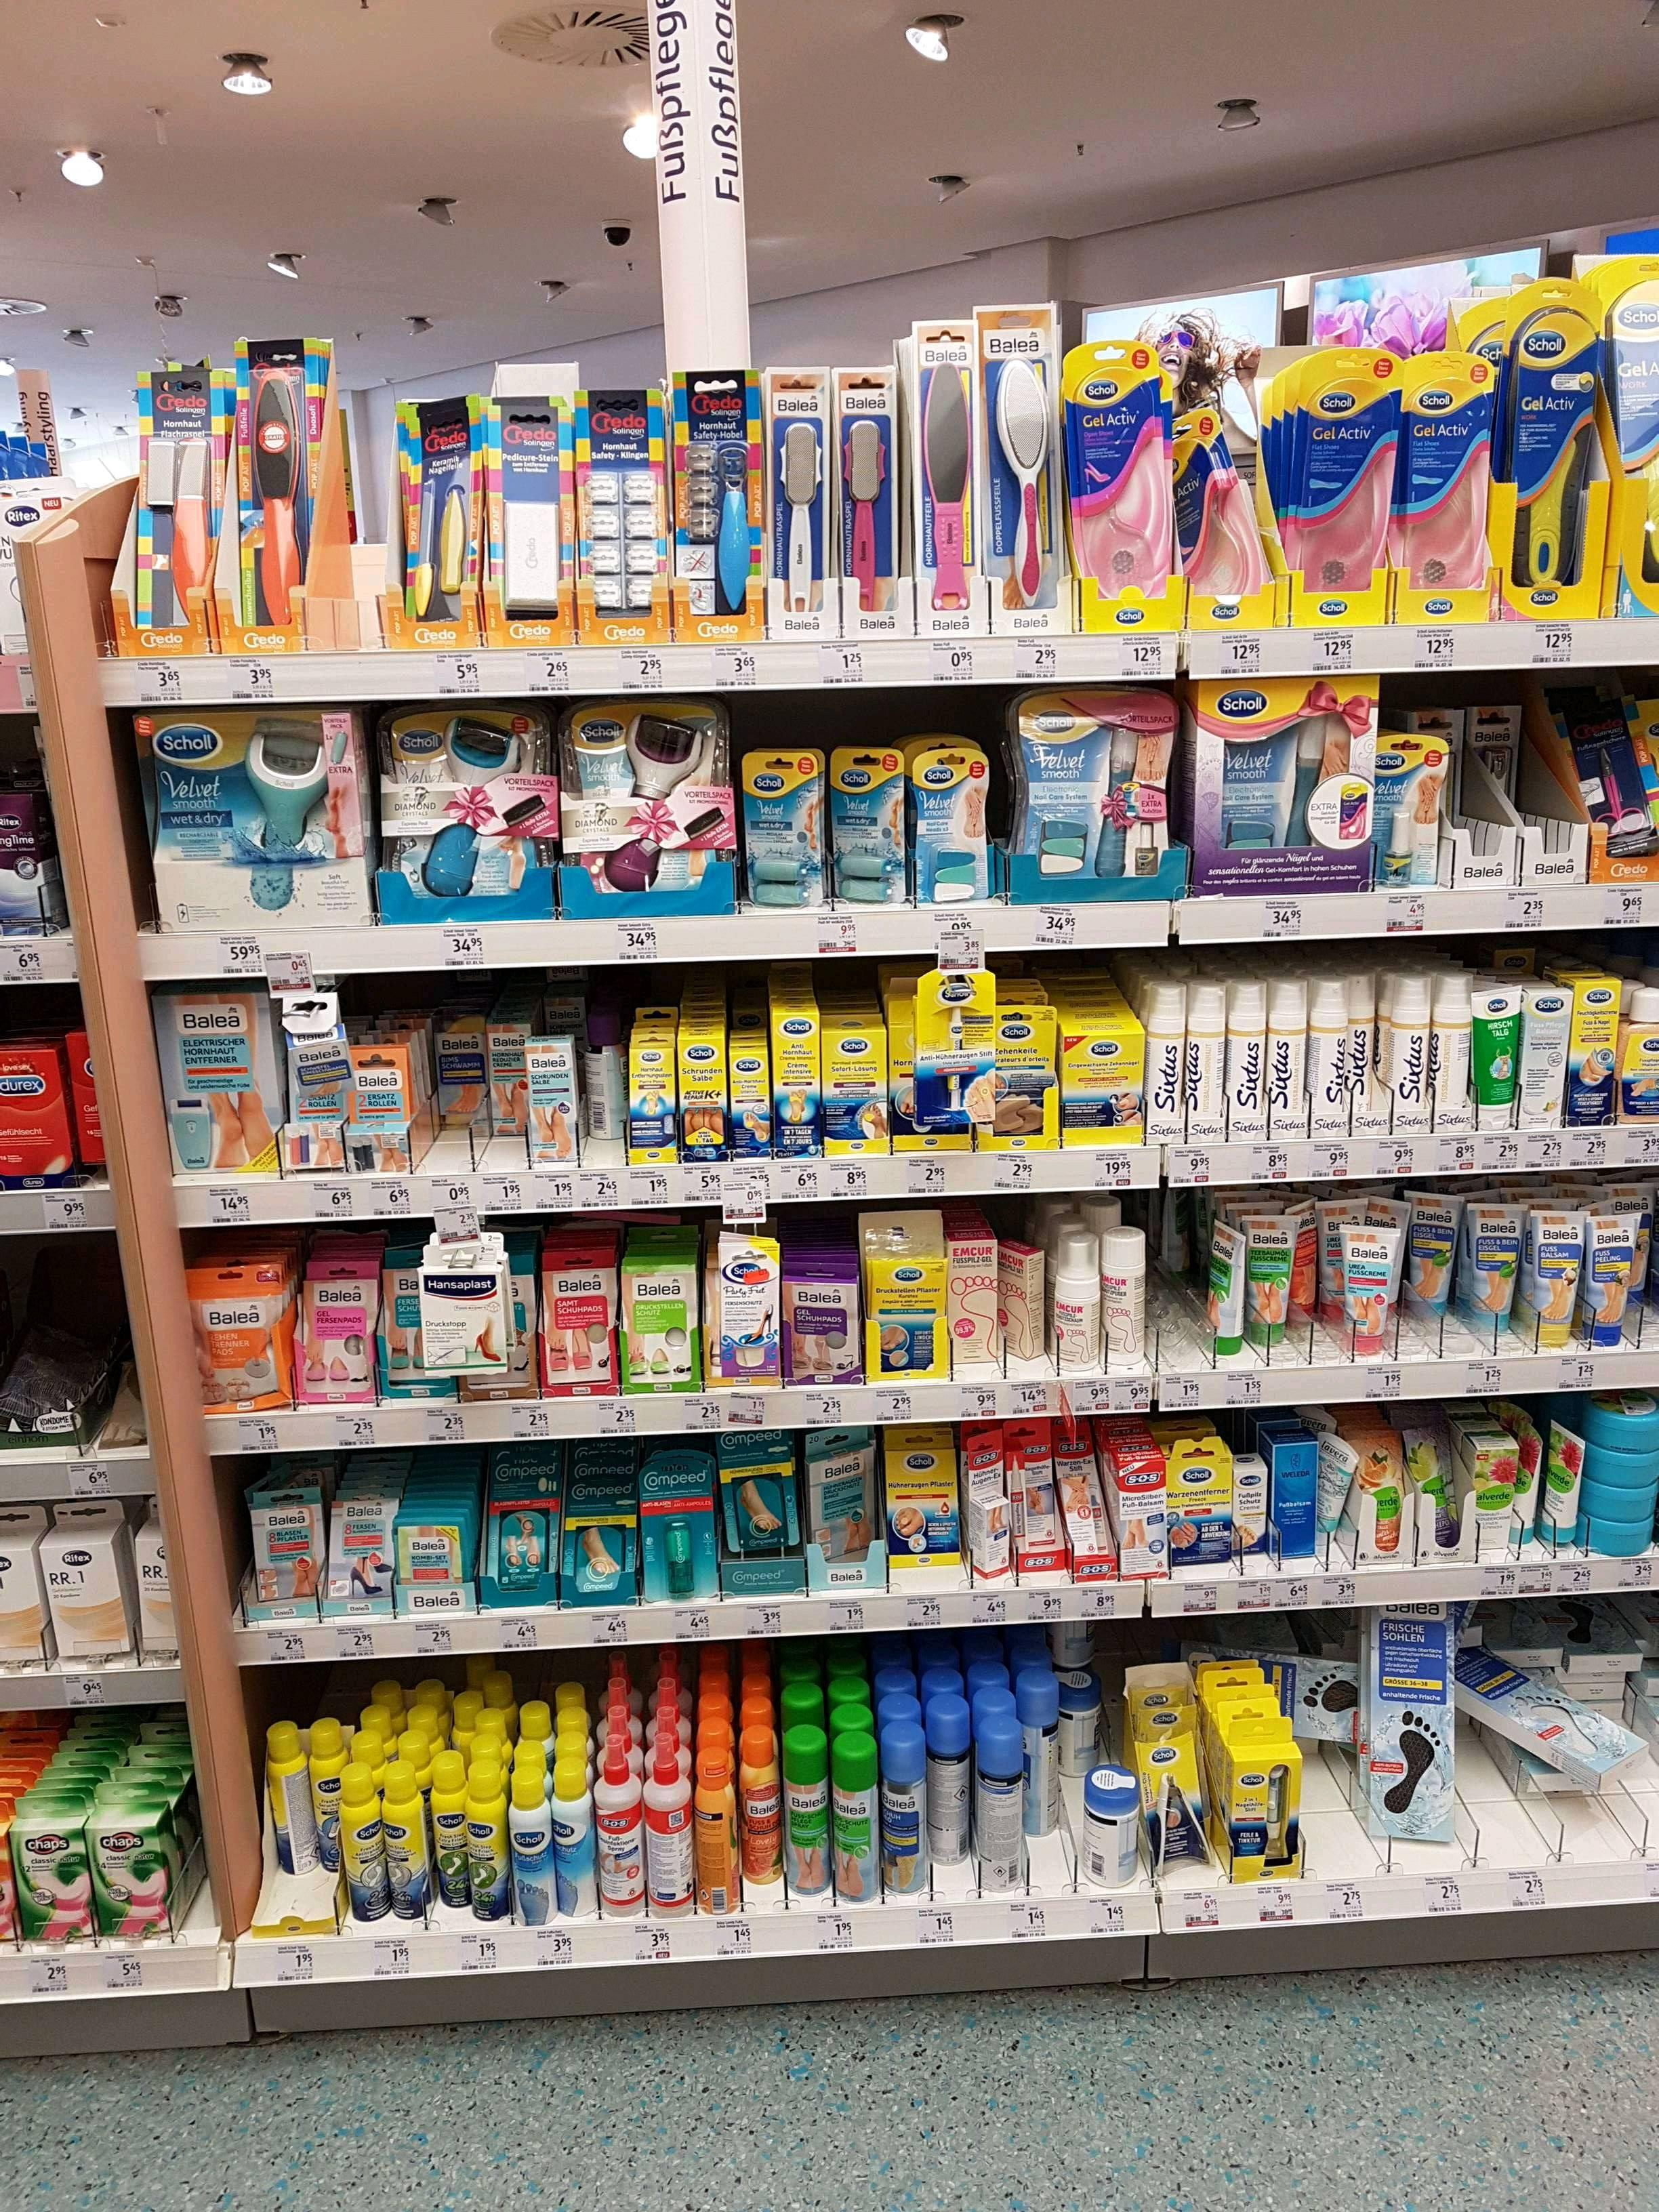misalignment: (1453, 1639, 1652, 1813), (1199, 1632, 1370, 1745), (800, 1435, 880, 1561), (277, 995, 361, 1097), (960, 1437, 1014, 1578), (993, 1238, 1049, 1366), (1208, 1207, 1248, 1359), (1312, 1430, 1363, 1540), (1547, 1421, 1584, 1547), (1516, 1421, 1541, 1541)
